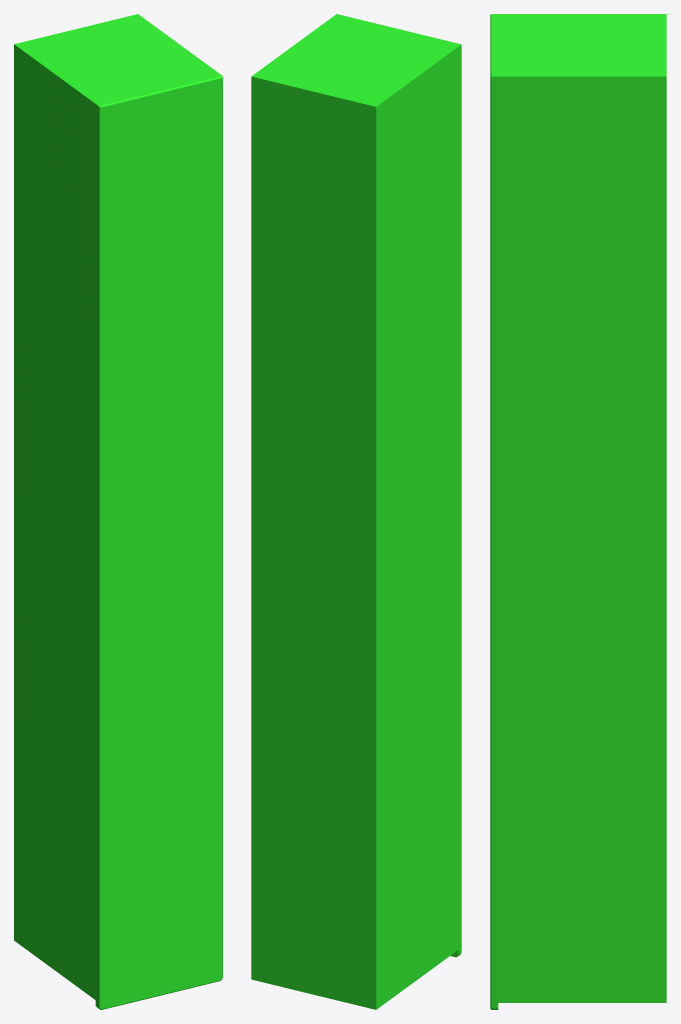
Rendered from Kbdnatchigh.obj.
The picture shows the model from 3 angles, left to right: view 1: azimuth 30°, elevation 25°; view 2: azimuth 150°, elevation 25°; view 3: azimuth 270°, elevation 25°; orthographic projection. The views are drawn at different scales.
Parts seen in each view (by area): view 1: Kbdnatchigh; view 2: Kbdnatchigh; view 3: Kbdnatchigh.
Part boxes in pixels (x1,y1,x2,y2): Kbdnatchigh: [14, 14, 222, 1009]; Kbdnatchigh: [251, 14, 461, 1009]; Kbdnatchigh: [490, 14, 666, 1009].
Size of the model in its own units: 0.1535 by 1.07 by 0.1833.
